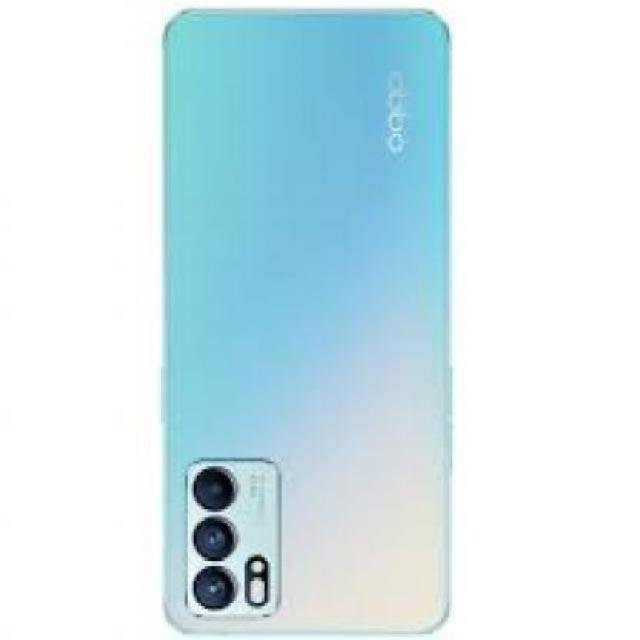phone: (163, 6, 452, 637)
